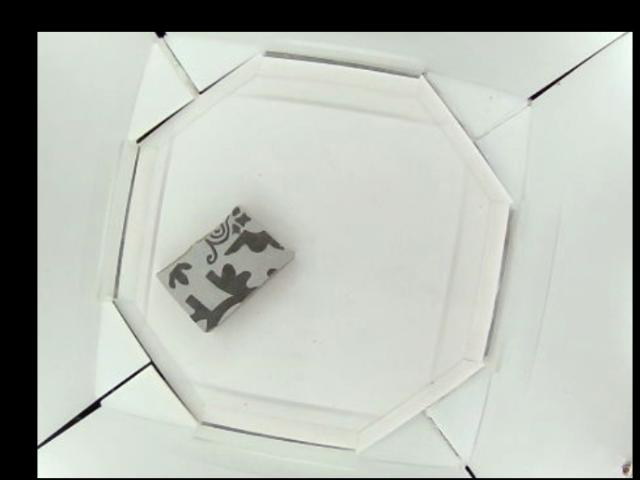China: (152, 203, 295, 328)
